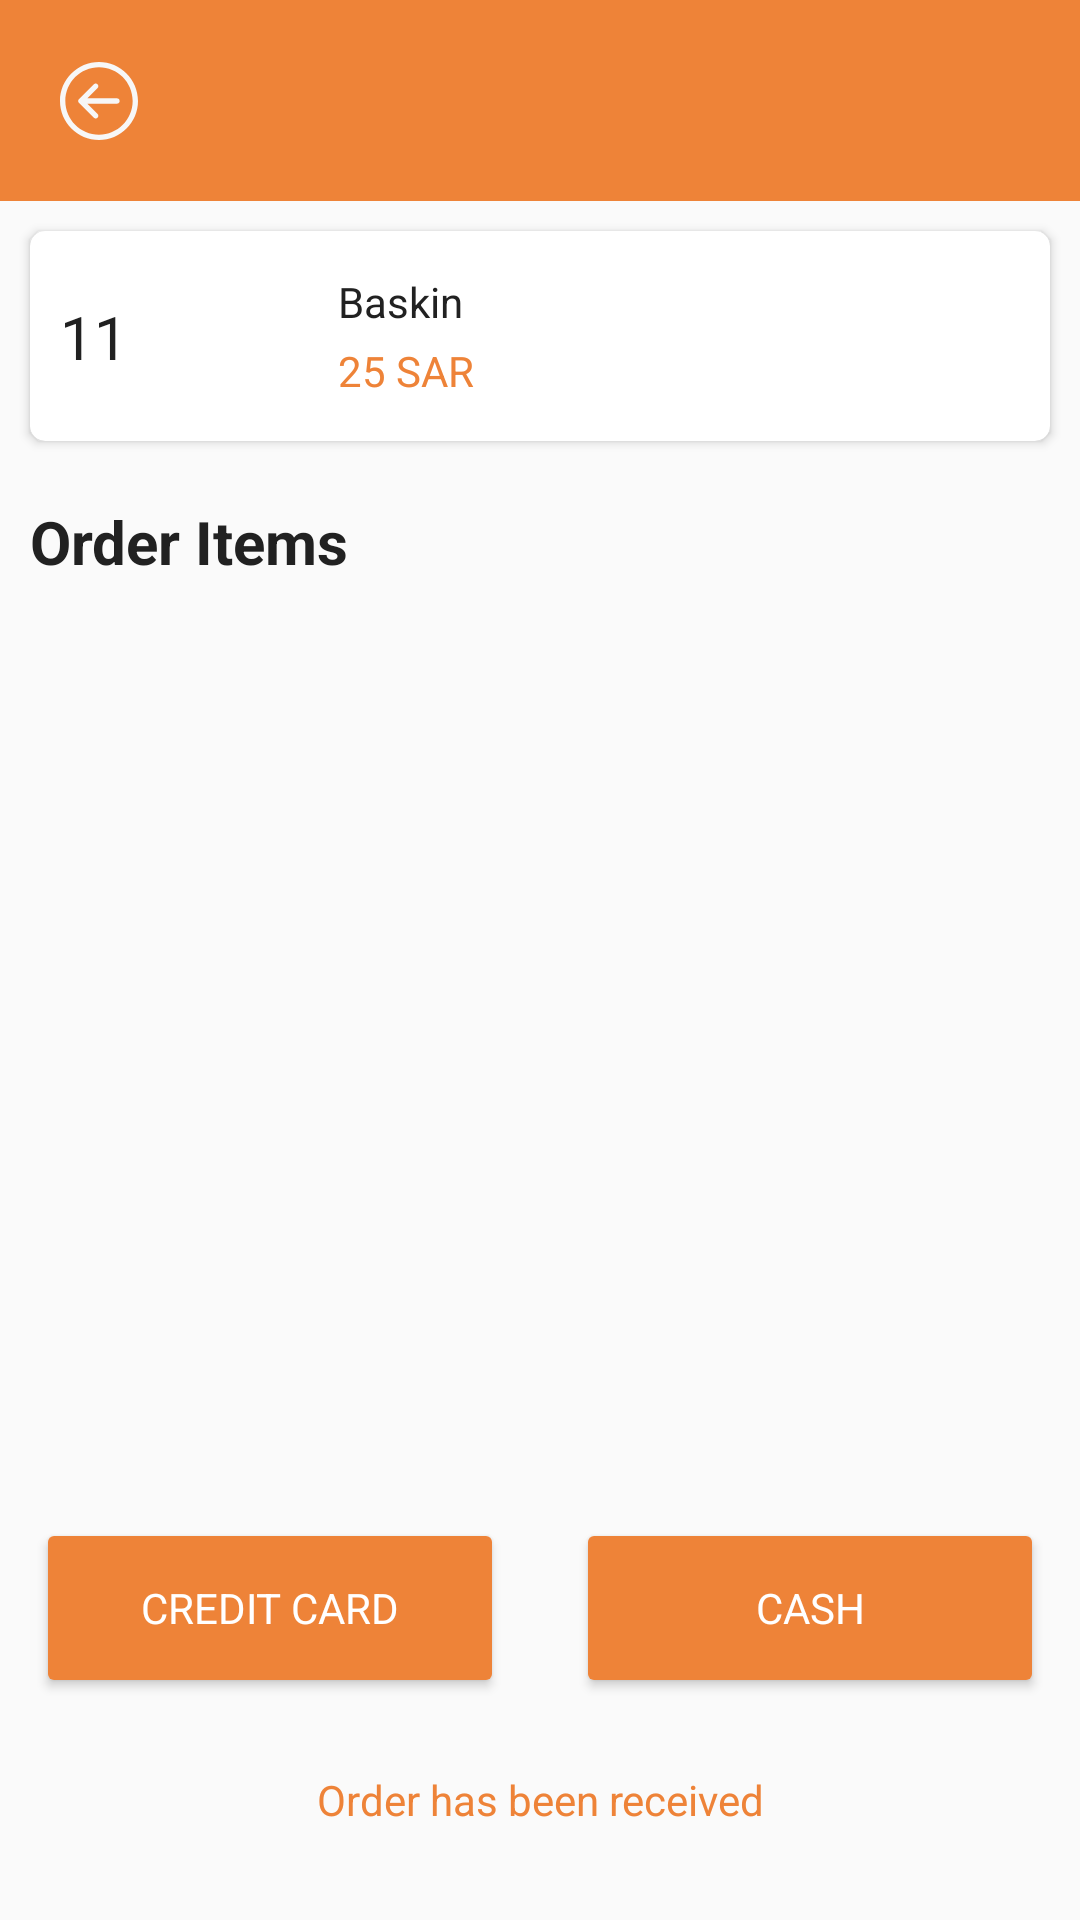

Icon bounding boxes for this 1080w x 1920h phone screenshot, format region(x1, y1, x2, y2):
back: region(60, 62, 138, 140)
